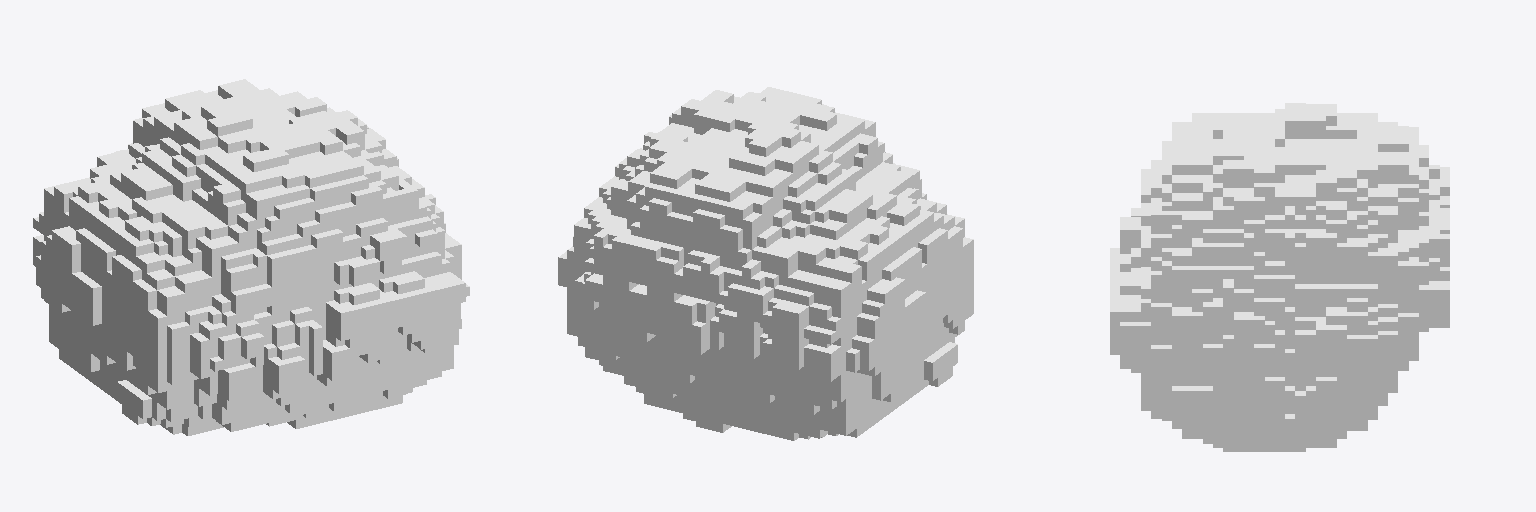
File: canopy_3.obj
3 renders of one model, left to right at view 1: azimuth 30°, elevation 25°; view 2: azimuth 150°, elevation 25°; view 3: azimuth 270°, elevation 25°, orthographic.
Parts seen in each view (by area): view 1: object 1; view 2: object 1; view 3: object 1.
Part boxes in pixels (x1,y1,x2,y2): object 1: (33, 79, 469, 435); object 1: (558, 87, 973, 440); object 1: (1110, 103, 1449, 451).
Size of the model in its own units: 10.8 by 8.7 by 9.9.